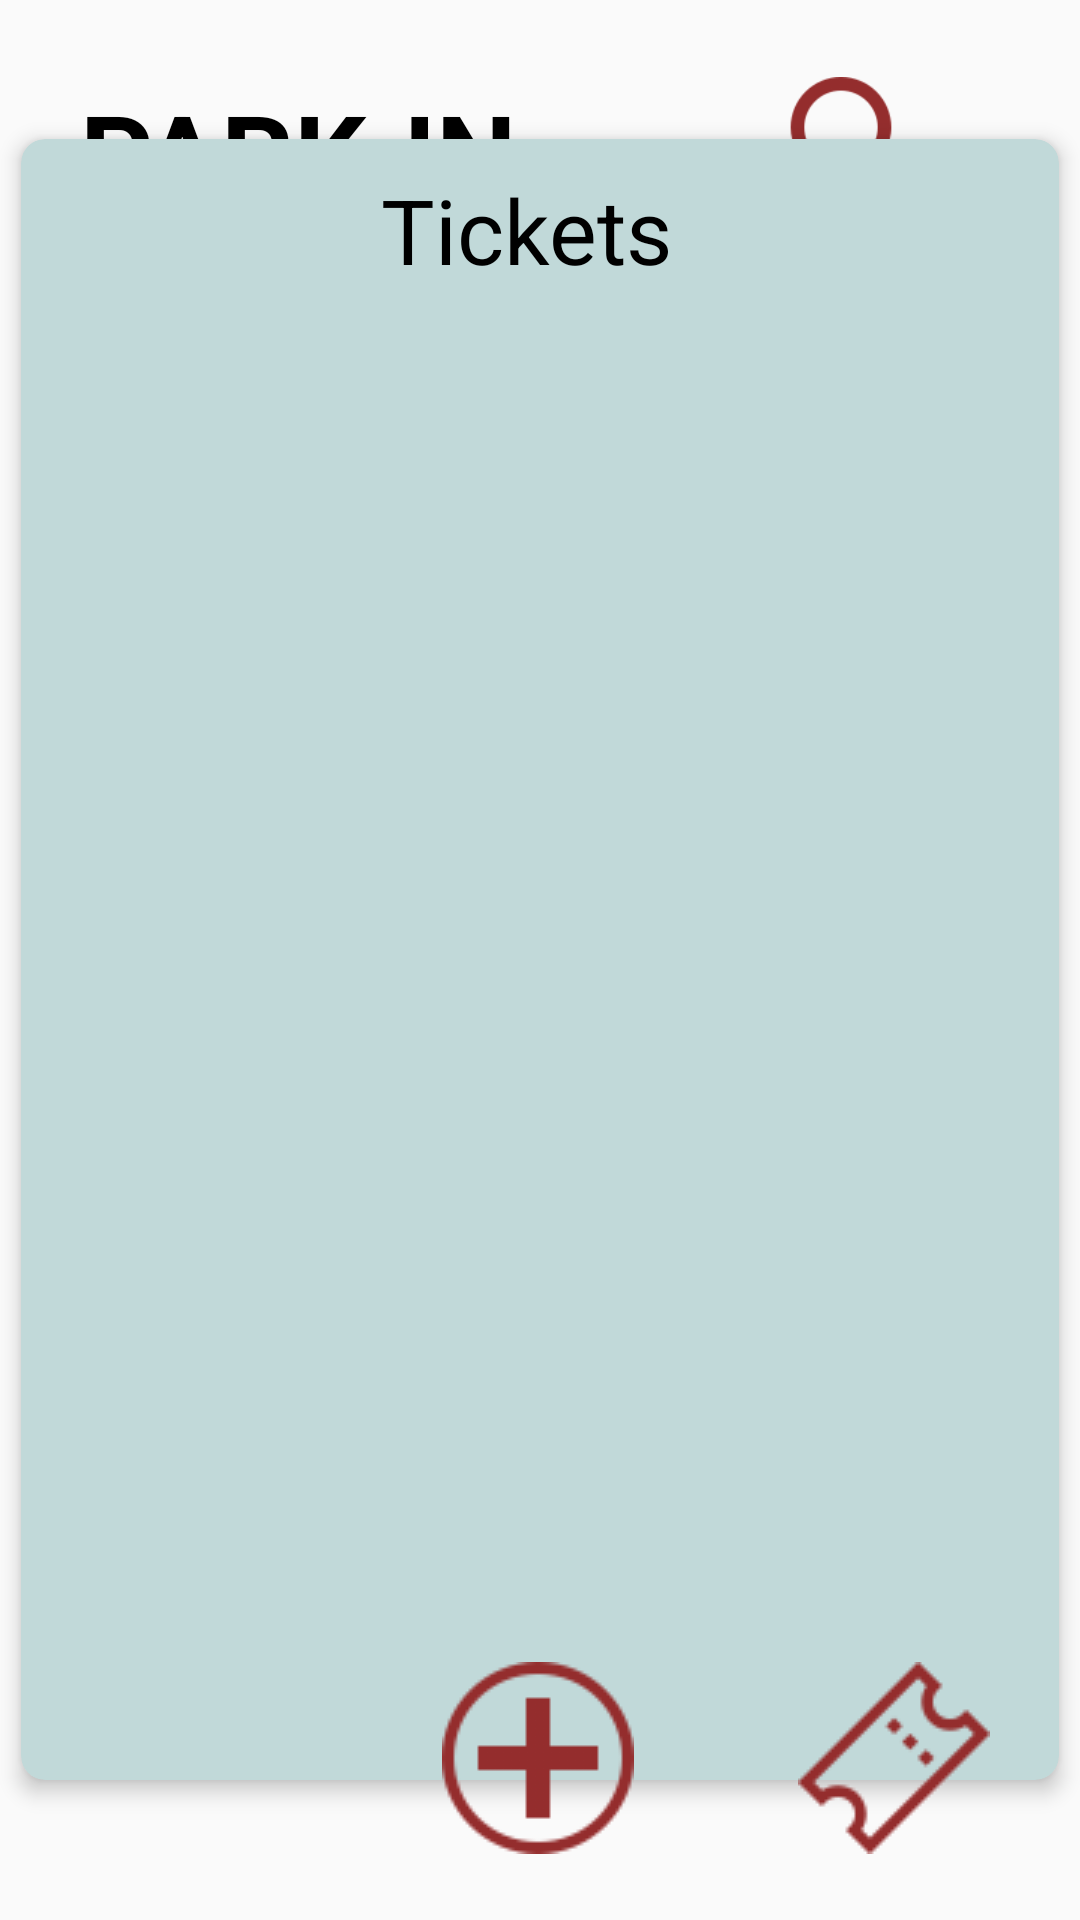

Named icons in this screenshot (1080×1920) and their centers, point (x, y):
circuloplus: point (538, 1758)
entradas: point (894, 1758)
